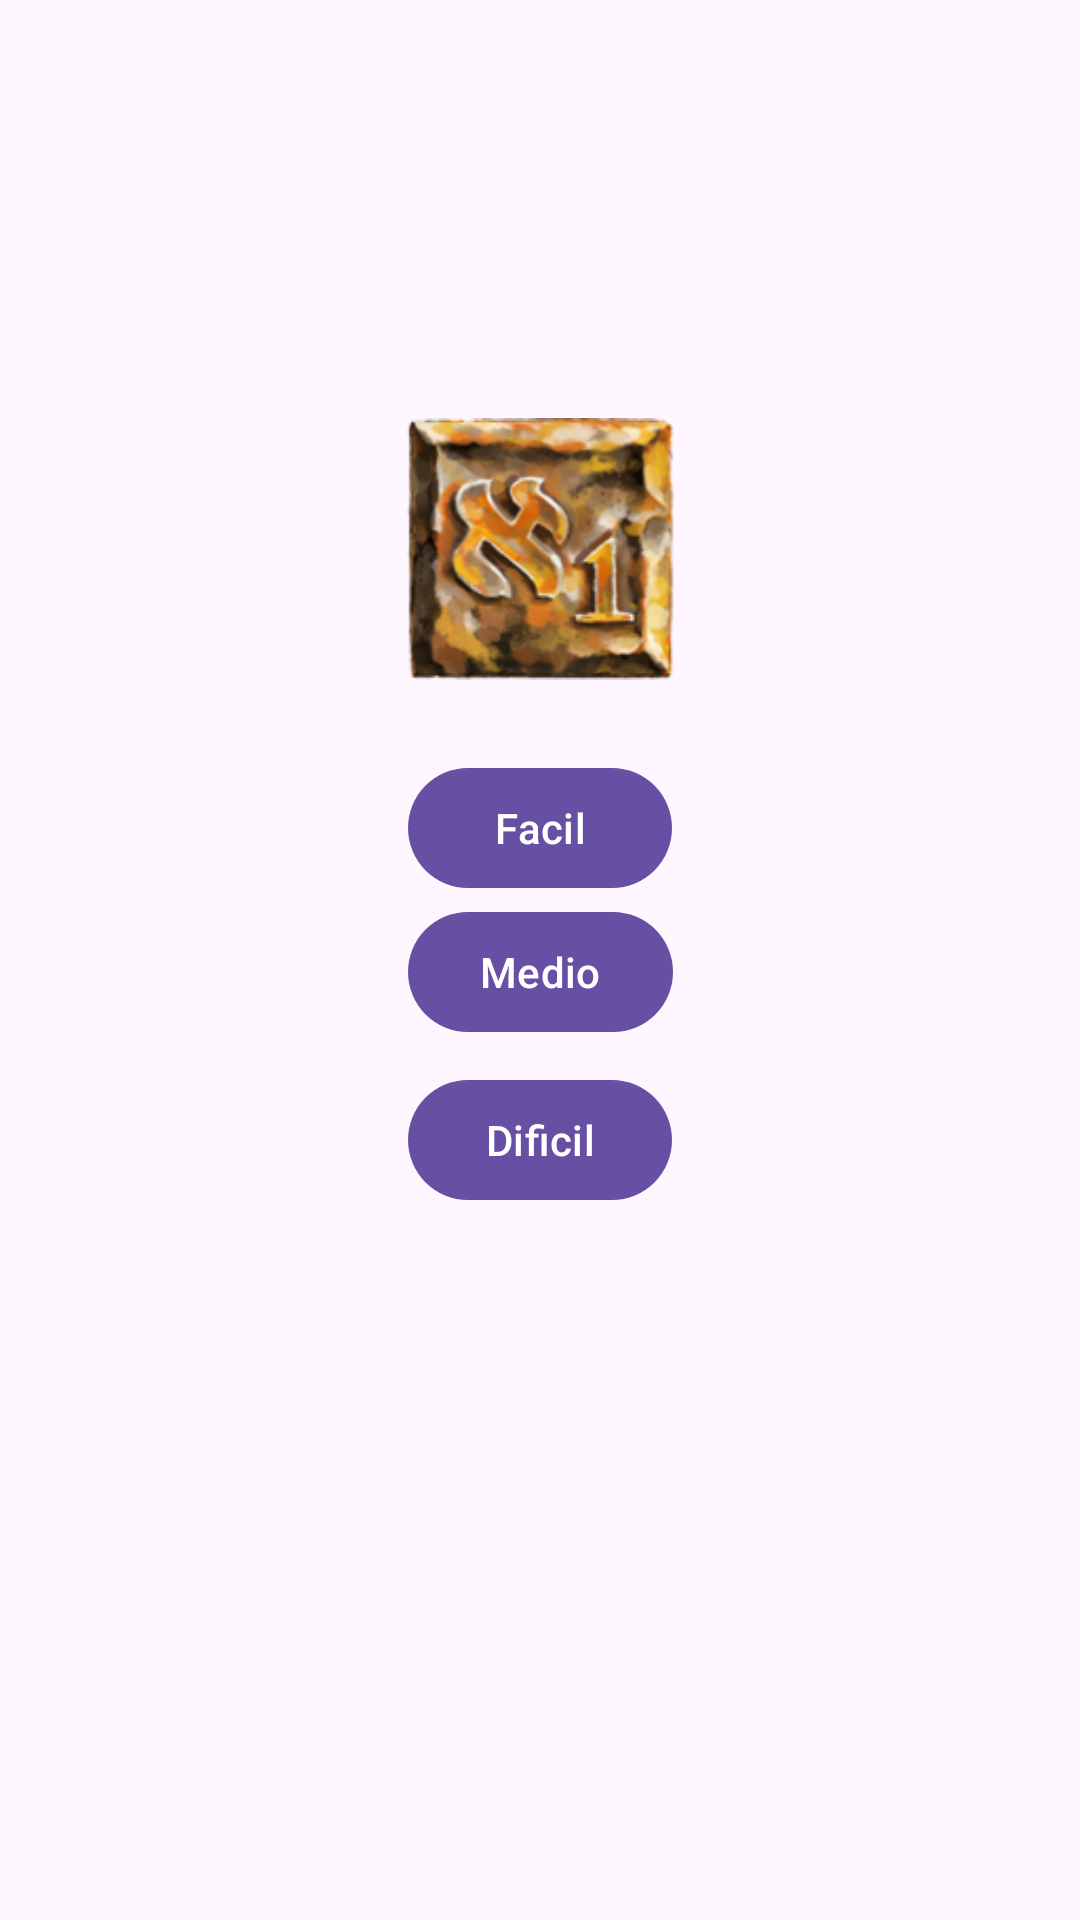

Named icons in this screenshot (1080px×1920px) and their bounding boxes, (x1=x1, y1=y1, x2=x2, y2=y2):
aleph: (x1=408, y1=418, x2=674, y2=680)
